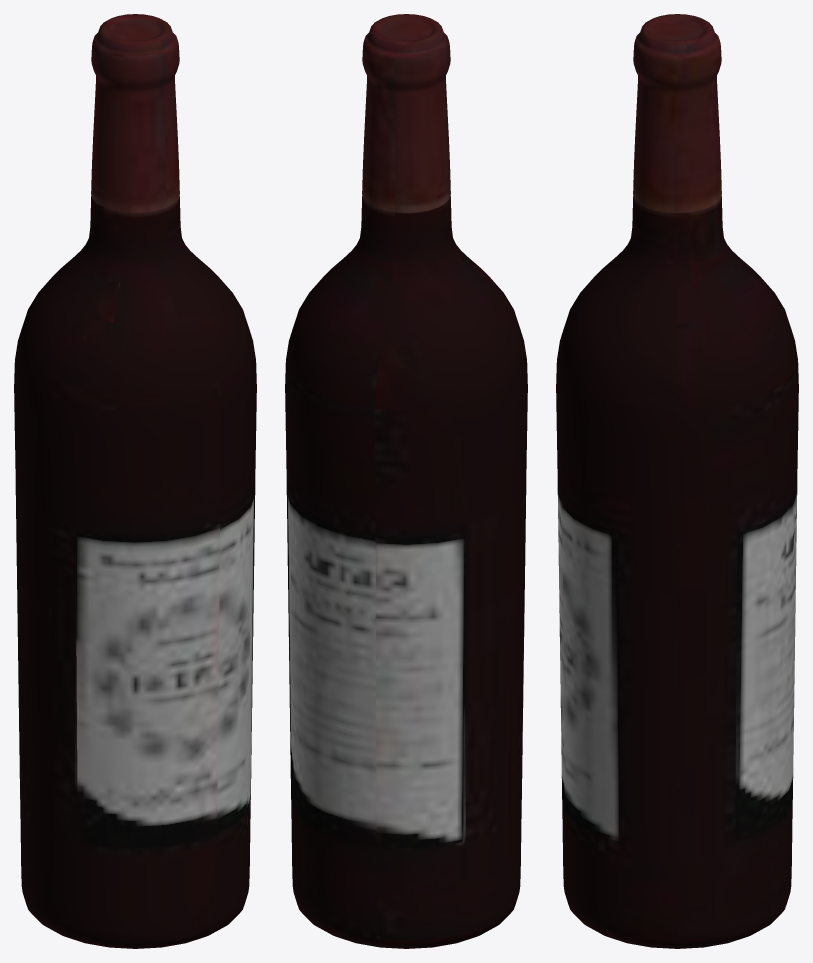
The model's file is wine_bottle.glb.
3 views of the same model, side by side, from view 1: azimuth 30°, elevation 25°; view 2: azimuth 150°, elevation 25°; view 3: azimuth 270°, elevation 25° (orthographic).
Parts seen in each view (by area): view 1: wine_bottle; view 2: wine_bottle; view 3: wine_bottle.
Part boxes in pixels (x1,y1,x2,y2): wine_bottle: [14, 14, 256, 948]; wine_bottle: [285, 14, 527, 948]; wine_bottle: [556, 14, 798, 948].
Bounding box in the file's own units: 0.075 × 0.3 × 0.075.
1 material, 1 textured.
